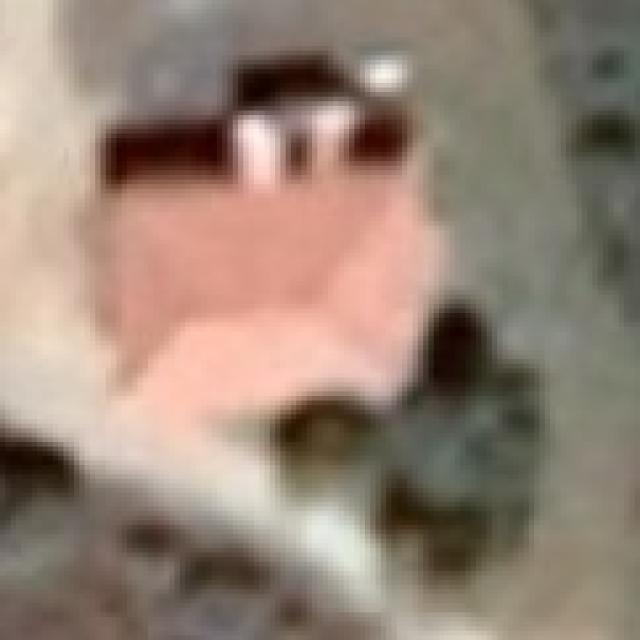Batiment: (108, 56, 434, 437)
